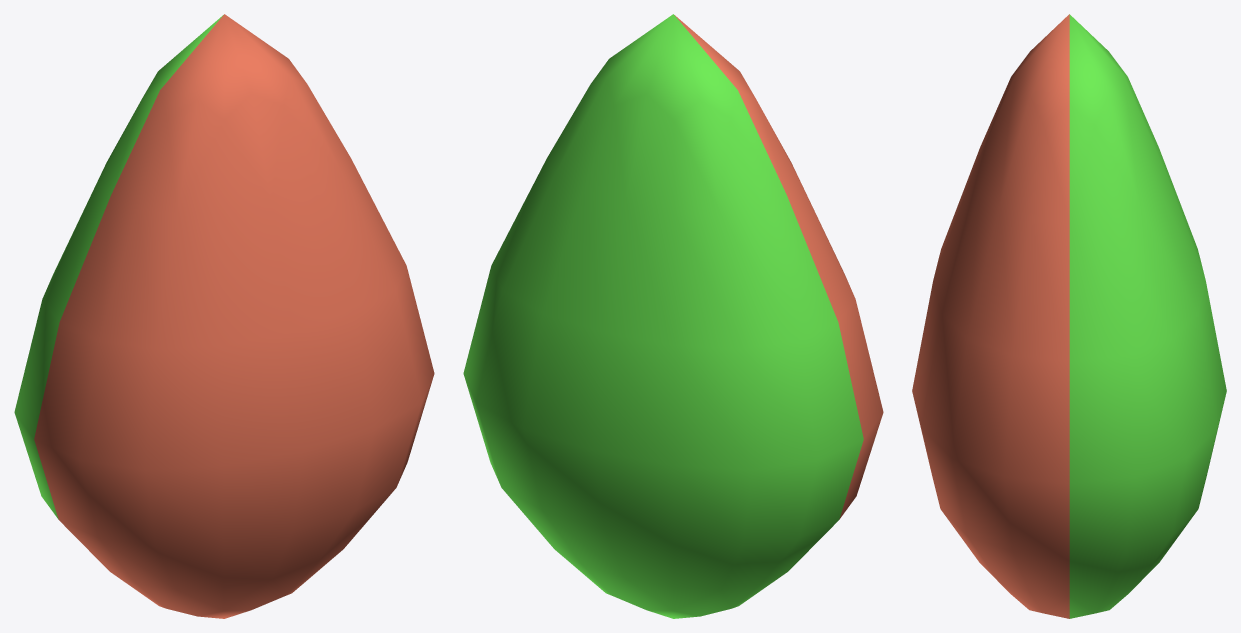
File: Seed_AridisFlower.fbx
3 views of the same model, side by side, from view 1: azimuth 30°, elevation 25°; view 2: azimuth 150°, elevation 25°; view 3: azimuth 270°, elevation 25° (orthographic).
Visible parts, largest first — view 1: Seed_LOD0; view 2: Seed_LOD0; view 3: Seed_LOD0.
Part boxes in pixels (left/top/right/bottom): Seed_LOD0: left=14, top=14, right=434, bottom=618; Seed_LOD0: left=463, top=14, right=883, bottom=618; Seed_LOD0: left=912, top=14, right=1226, bottom=618.
Size of what is drawn, in the model's own units: 0.1094 by 0.1661 by 0.0787.
